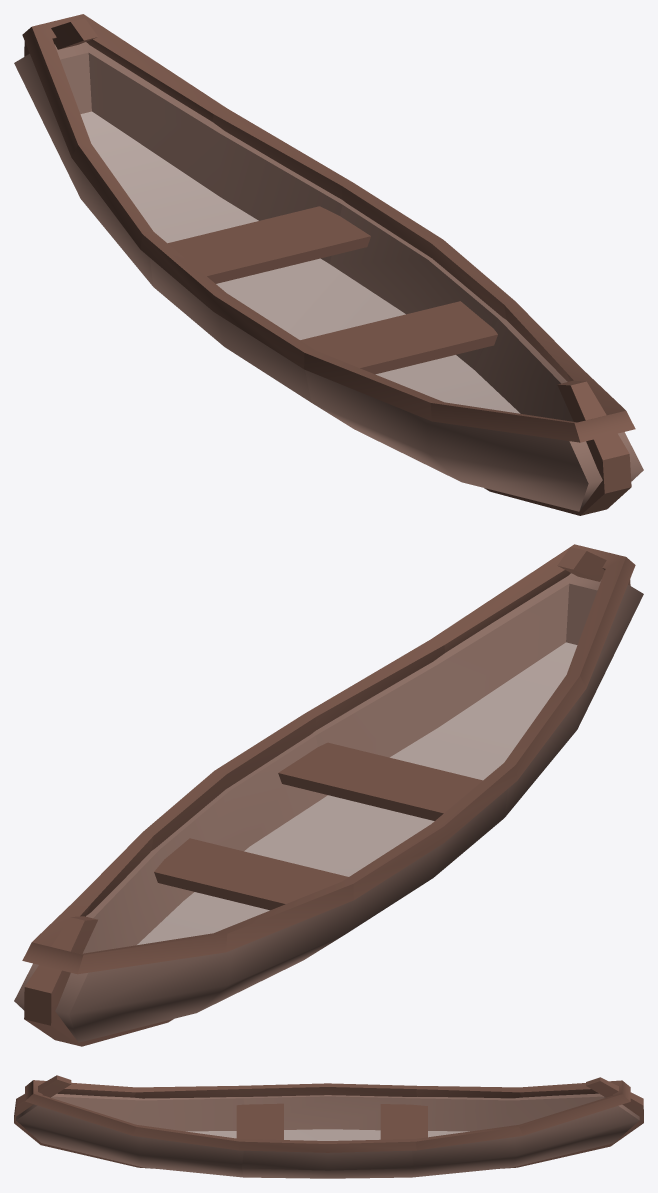
File: props_016.glb
The picture shows the model from 3 angles, top to bottom: view 1: azimuth 30°, elevation 25°; view 2: azimuth 150°, elevation 25°; view 3: azimuth 270°, elevation 25°; orthographic projection. The views are drawn at different scales.
Visible parts, largest first — view 1: props_016; view 2: props_016; view 3: props_016.
Boxes of the visible parts, <box> form: props_016: <box>14,14,643,515</box>; props_016: <box>14,544,643,1046</box>; props_016: <box>14,1075,643,1178</box>.
Bounding box in the file's own units: 3.19 × 2.26 × 13.85.
Materials: 1 (1 with a texture image).
